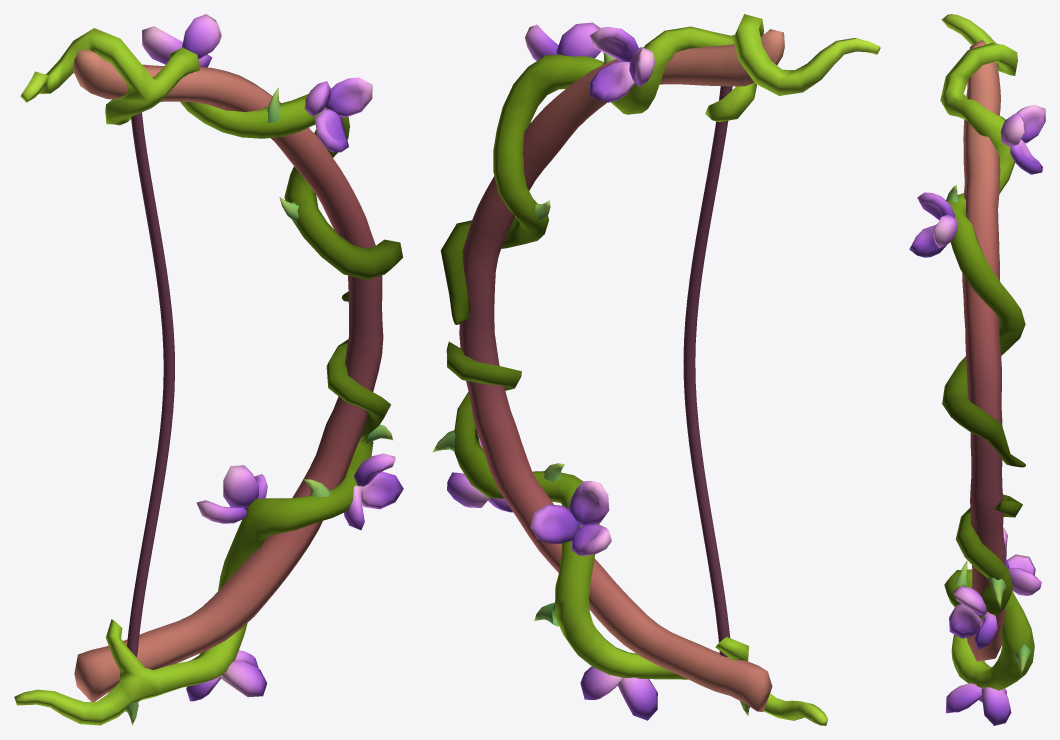
Rendered from Bow_Test.fbx.
3 views of the same model, side by side, from view 1: azimuth 30°, elevation 25°; view 2: azimuth 150°, elevation 25°; view 3: azimuth 270°, elevation 25° (orthographic). The views are drawn at different scales.
Parts seen in each view (by area): view 1: Bow_Test, Bow_Test.001; view 2: Bow_Test, Bow_Test.001; view 3: Bow_Test.
Part boxes in pixels (bbox=[...]): Bow_Test: bbox=[14, 14, 403, 725]; Bow_Test.001: bbox=[127, 112, 174, 656]; Bow_Test: bbox=[432, 14, 880, 725]; Bow_Test.001: bbox=[683, 86, 732, 656]; Bow_Test: bbox=[909, 14, 1045, 725].
Bounding box in the file's own units: 80.97 × 134 × 26.61.
